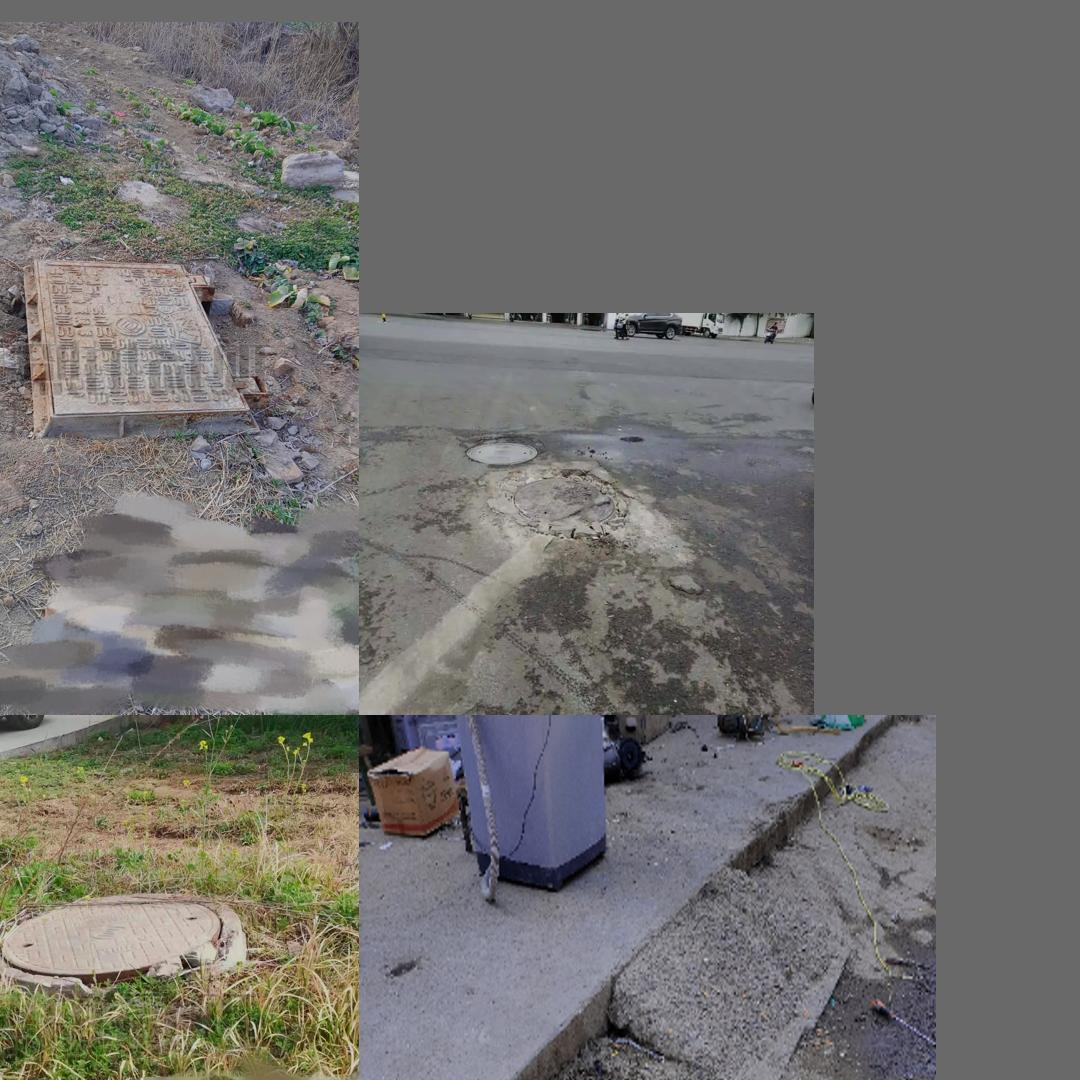circle: (14, 252, 269, 442), (0, 886, 243, 998), (490, 461, 665, 574), (546, 1078, 864, 1080)
